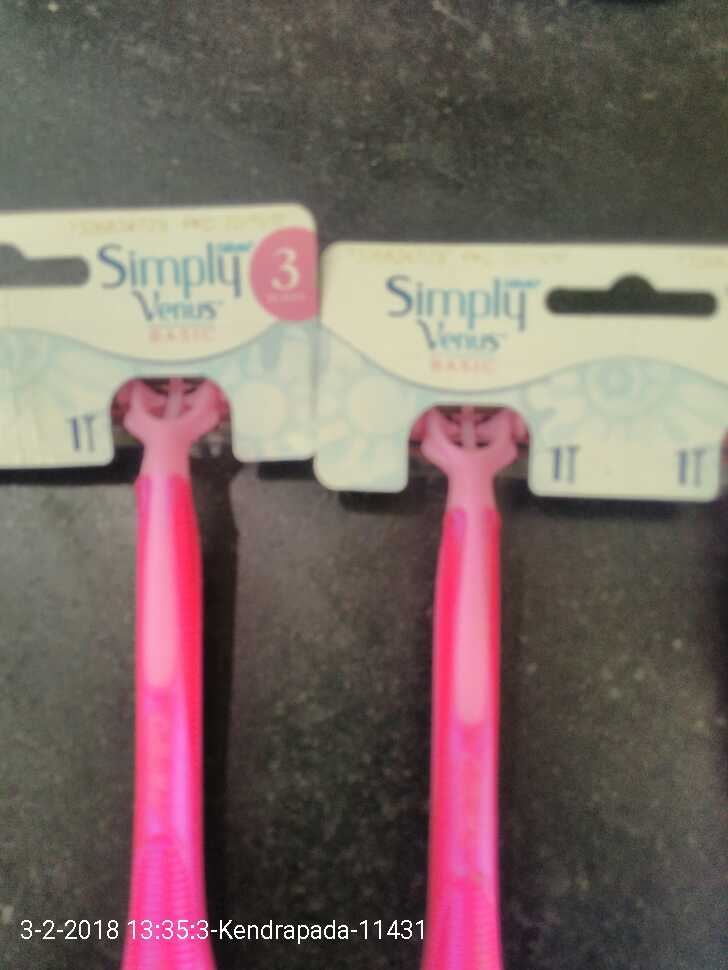reject: (310, 271, 728, 450)
